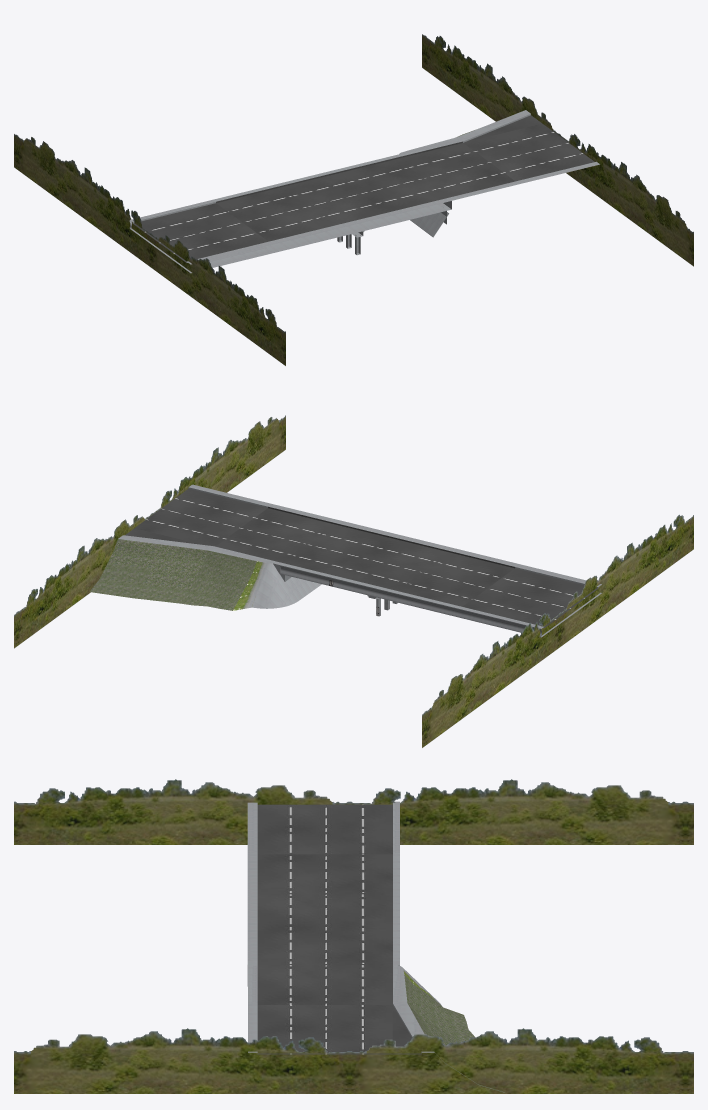
File: rock.FBX
3 views of the same model, one above another, from view 1: azimuth 30°, elevation 25°; view 2: azimuth 150°, elevation 25°; view 3: azimuth 270°, elevation 25° (orthographic). The views are drawn at different scales.
Visible parts, largest first — view 1: m7, skyFoliage; view 2: m7, skyFoliage; view 3: skyFoliage, m7.
Boxes of the visible parts, x1,y1,x2,y2 form: m7: (129,110,599,273); skyFoliage: (14,34,693,365); m7: (90,484,601,637); skyFoliage: (14,415,693,747); skyFoliage: (14,779,693,1093); m7: (247,801,505,1092).
Size of the model in its own units: 12016 by 1531 by 13765.
